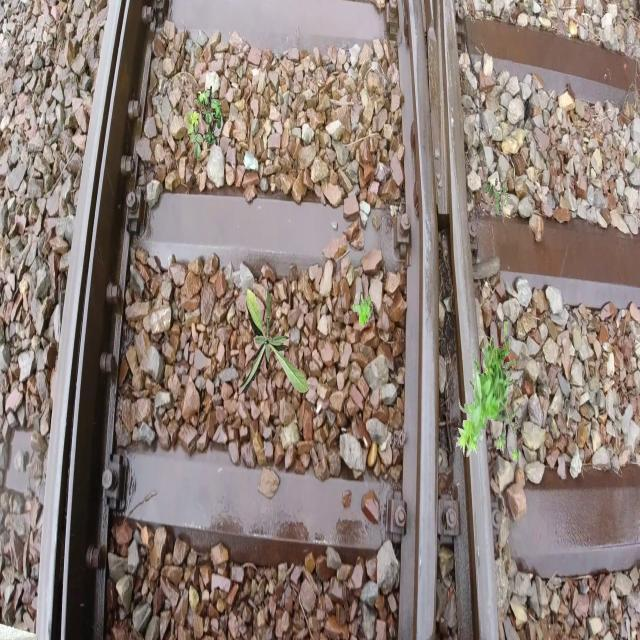Plant: (456, 321, 520, 464), (237, 288, 308, 396), (185, 86, 222, 160), (483, 174, 510, 215), (352, 294, 372, 327)
